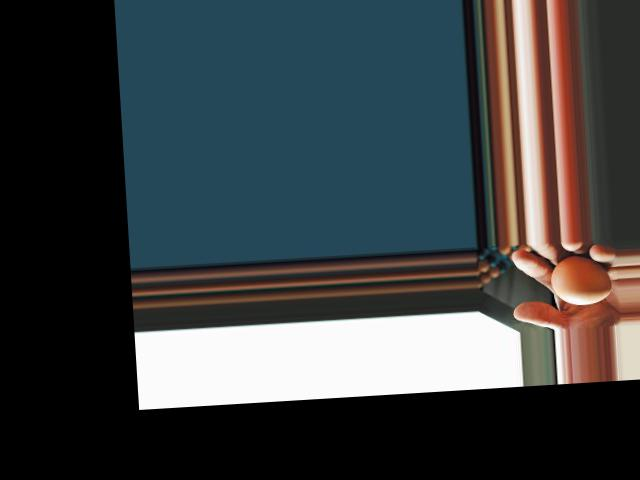egg: (549, 252, 614, 306)
